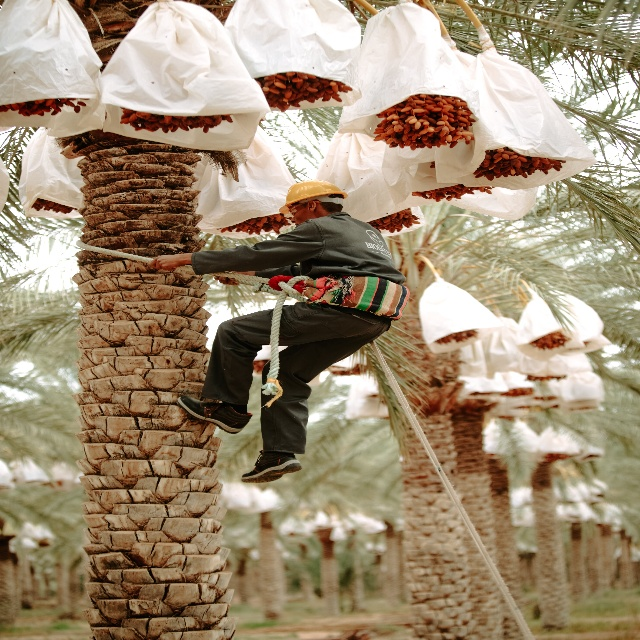Gafas: (288, 203, 301, 215)
Sin_guantes: (148, 253, 185, 270), (214, 275, 239, 286)
